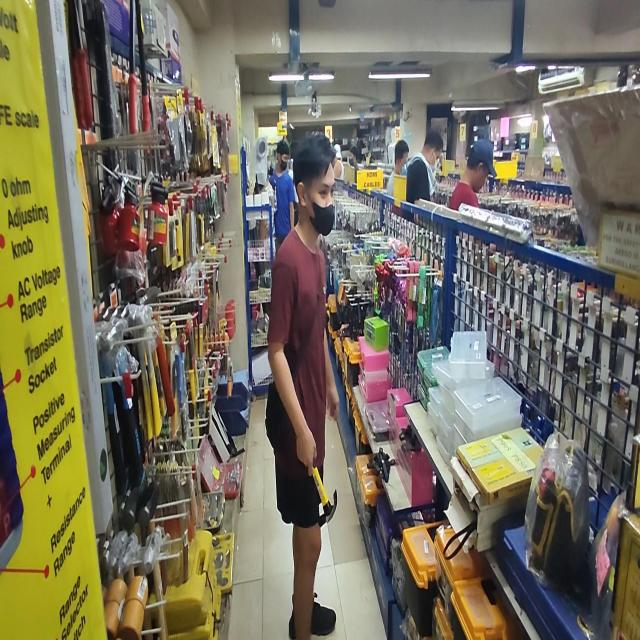hammer: (309, 457, 337, 527)
